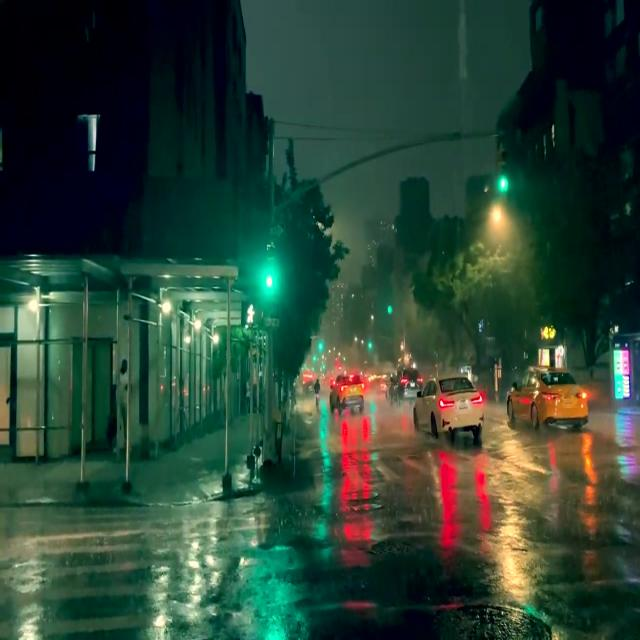Car: (508, 364, 585, 430), (409, 374, 482, 435), (325, 376, 364, 410)
